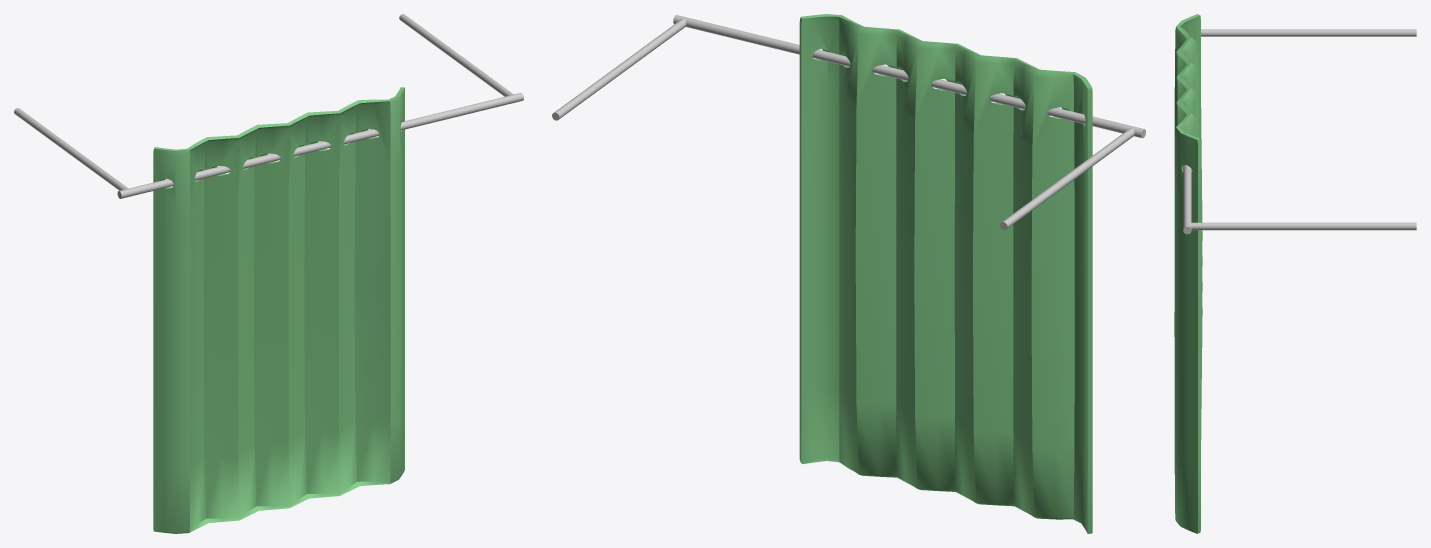
Rendered from suihkuverho_GJ22.fbx.
The picture shows the model from 3 angles, left to right: view 1: azimuth 30°, elevation 25°; view 2: azimuth 150°, elevation 25°; view 3: azimuth 270°, elevation 25°; orthographic projection. The views are drawn at different scales.
Parts seen in each view (by area): view 1: Verho, Tanko; view 2: Verho, Tanko; view 3: Verho, Tanko.
Part boxes in pixels (box(x1,y1,x2,y2)): Verho: box(153, 87, 404, 533); Tanko: box(14, 14, 523, 198); Verho: box(799, 14, 1092, 533); Tanko: box(552, 15, 1145, 229); Verho: box(1174, 14, 1202, 533); Tanko: box(1183, 29, 1416, 234).
Size of the model in its own units: 220 by 202 by 111.
